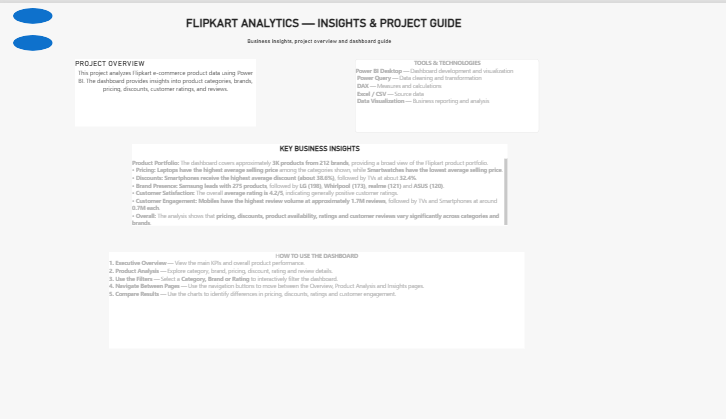

Layout of this report page (visuals, bound fields, positions):
{"tool":"powerbi","page":{"name":"Insights & Project Guide","canvas":[1920,1080],"ordinal":2},"visuals":[{"type":"textbox","title":"FLIPKART ANALYTICS — INSIGHTS & PROJECT GUIDE","box":[410,32.5,845,92.5],"z":0},{"type":"textbox","title":"Business insights, project overview and dashboard guide","box":[270,88.6,1105,105],"z":1000},{"type":"textbox","title":"PROJECT OVERVIEW","box":[207.1,141.4,455.7,170],"z":2000},{"type":"textbox","box":[911.4,141.4,464.3,185.7],"z":3000},{"type":"textbox","title":"KEY BUSINESS INSIGHTS","box":[350,354.3,945.7,205.7],"z":4000},{"type":"textbox","box":[293.3,626.7,1046.7,243.3],"z":5000},{"type":"actionButton","box":[50,13.3,100,40],"z":6000},{"type":"actionButton","box":[50,80,100,40],"z":7000}]}

Visuals, with their boxes on the page's 1920x1080 design canvas (x1, y1, x2, y2). These are canvas units, not pixel positions in the 726x419 screenshot, which may show the page scaled, cropped or inside an application window:
"FLIPKART ANALYTICS — INSIGHTS & PROJECT GUIDE" textbox: BBox(410, 32, 1255, 125)
"Business insights, project overview and dashboard guide" textbox: BBox(270, 89, 1375, 194)
"PROJECT OVERVIEW" textbox: BBox(207, 141, 663, 311)
textbox: BBox(911, 141, 1376, 327)
"KEY BUSINESS INSIGHTS" textbox: BBox(350, 354, 1296, 560)
textbox: BBox(293, 627, 1340, 870)
actionButton: BBox(50, 13, 150, 53)
actionButton: BBox(50, 80, 150, 120)
